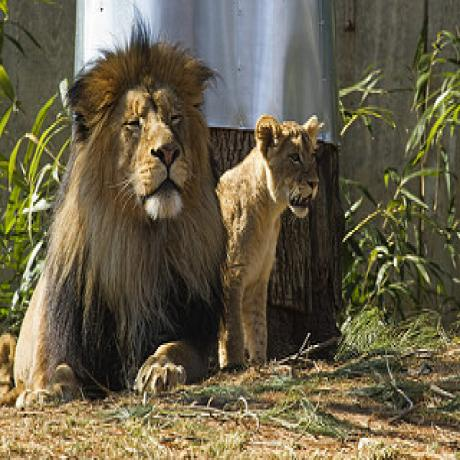Lion: (15, 28, 216, 402), (216, 112, 318, 368)
